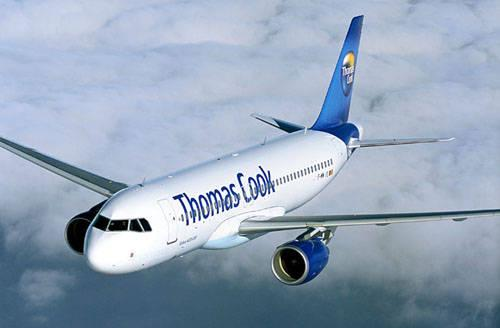airplane: (20, 16, 500, 288)
